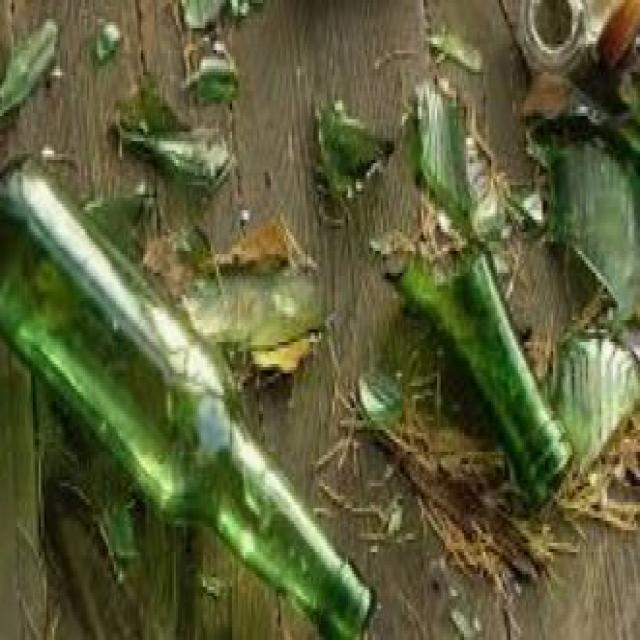electronic: (0, 147, 379, 640), (384, 238, 580, 514)
